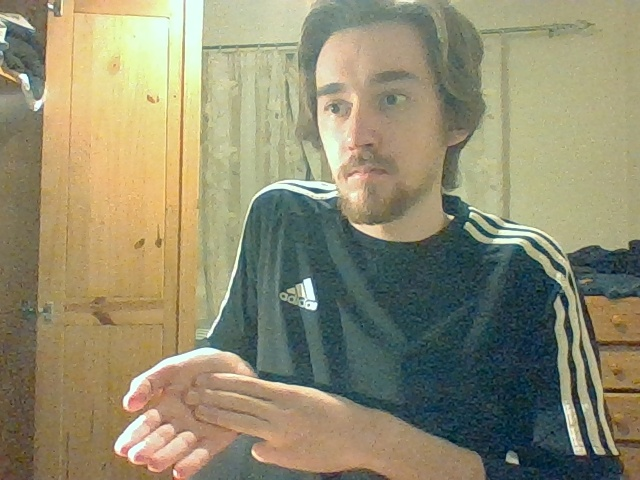mother: (113, 348, 260, 478)
